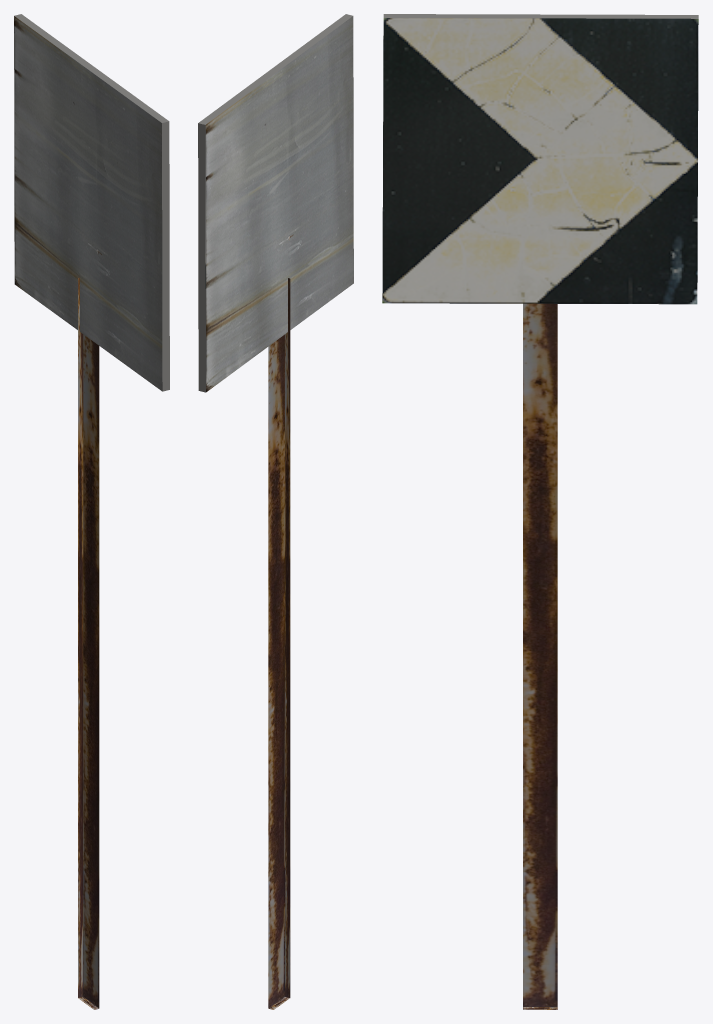
Rendered from right-arrow.fbx.
3 renders of one model, left to right at view 1: azimuth 30°, elevation 25°; view 2: azimuth 150°, elevation 25°; view 3: azimuth 270°, elevation 25°, orthographic. The views are drawn at different scales.
Visible parts, largest first — view 1: pasted__sign_hazard, pPlane2; view 2: pasted__sign_hazard, pPlane2; view 3: pasted__sign_hazard, pPlane2.
Boxes of the visible parts, <box> form: pasted__sign_hazard: <box>14,14,169,391</box>; pPlane2: <box>78,277,99,1009</box>; pasted__sign_hazard: <box>198,14,353,392</box>; pPlane2: <box>268,278,290,1009</box>; pasted__sign_hazard: <box>382,14,698,304</box>; pPlane2: <box>523,303,557,1009</box>.
Size of the model in its own units: 0.0828 by 7.52 by 2.17.
